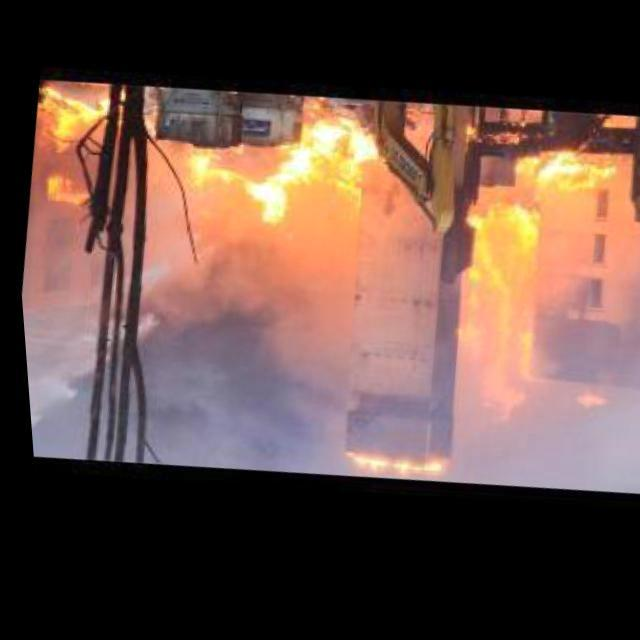fire: (178, 90, 400, 254), (322, 449, 448, 498), (34, 99, 110, 169), (34, 172, 98, 226)
